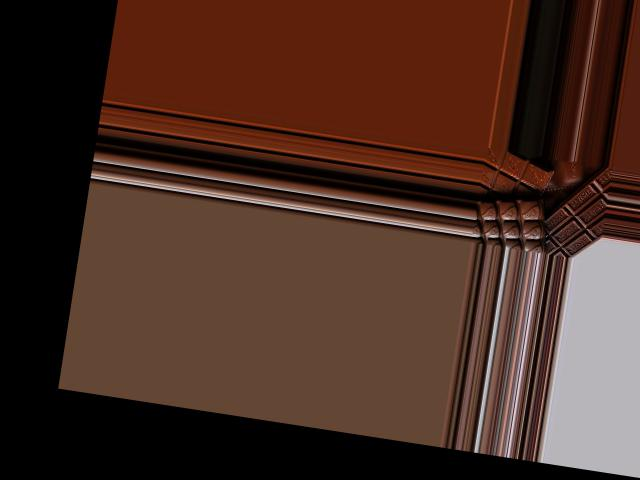chocolate: (475, 152, 554, 219)
